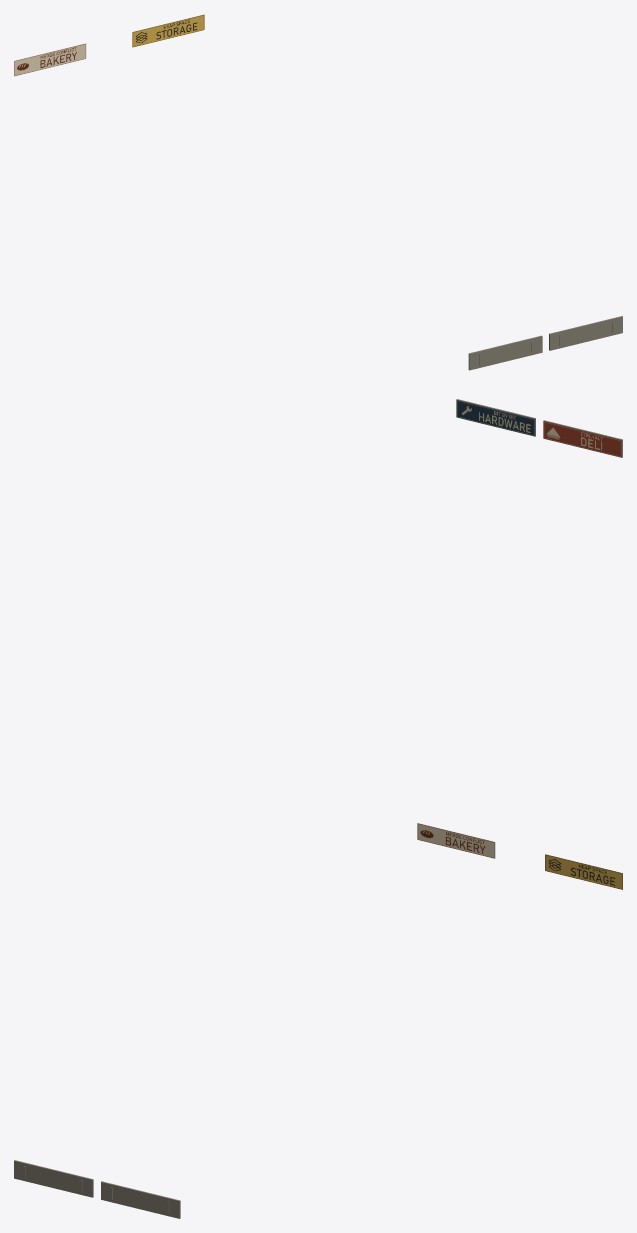
Rendered from police-curb-shops.glb.
3 views of the same model, one above another, from view 1: azimuth 30°, elevation 25°; view 2: azimuth 150°, elevation 25°; view 3: azimuth 330°, elevation 25° (orthographic). The views are drawn at different scales.
Visible parts, largest first — view 1: Masonry channels and sign cases, MERGE CONFLICT BAKERY, HEAP SPACE STORAGE; view 2: CTRL+ALT DELI, BIT BY BIT HARDWARE, Masonry channels and sign cases; view 3: Masonry channels and sign cases, MERGE CONFLICT BAKERY, HEAP SPACE STORAGE.
Boxes of the visible parts, left/top/right/bottom form: Masonry channels and sign cases: left=468, top=316, right=622, bottom=370; MERGE CONFLICT BAKERY: left=14, top=43, right=86, bottom=76; HEAP SPACE STORAGE: left=132, top=14, right=204, bottom=47; CTRL+ALT DELI: left=543, top=421, right=621, bottom=457; BIT BY BIT HARDWARE: left=457, top=400, right=534, bottom=435; Masonry channels and sign cases: left=456, top=399, right=622, bottom=457; Masonry channels and sign cases: left=14, top=1160, right=180, bottom=1218; MERGE CONFLICT BAKERY: left=417, top=823, right=495, bottom=858; HEAP SPACE STORAGE: left=545, top=854, right=622, bottom=889.
Bounding box in the file's own units: 19.32 × 1.57 × 71.45.
5 materials, 4 textured.
